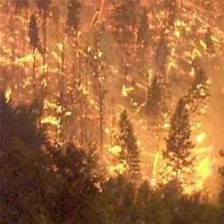fire: (10, 6, 224, 198)
